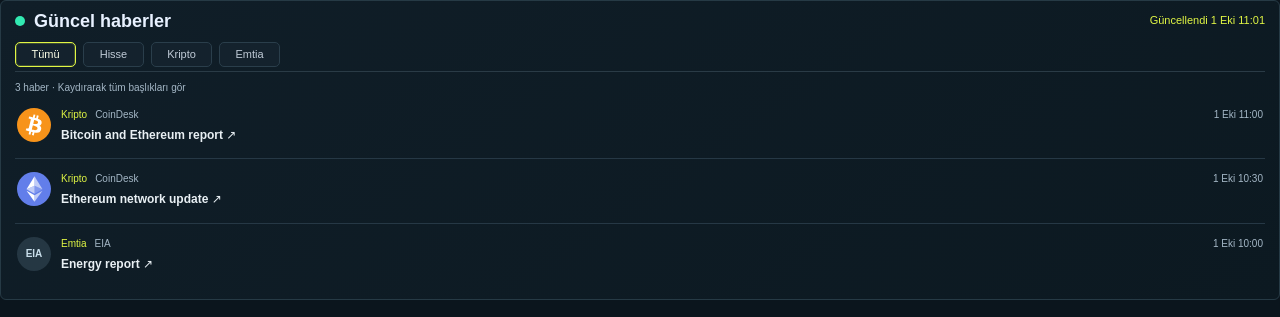
Scenario: NewsPanel › shows source links and filters actual items by category
Expected: the picture next to "Bitcoin and Ethereum report" is shown, [17,108,51,142]
Expected: the picture next to "Ethereum network update" is shown, [17,172,51,206]
Click the button "Emtia".
click(250, 54)  # box [219,42,280,67]
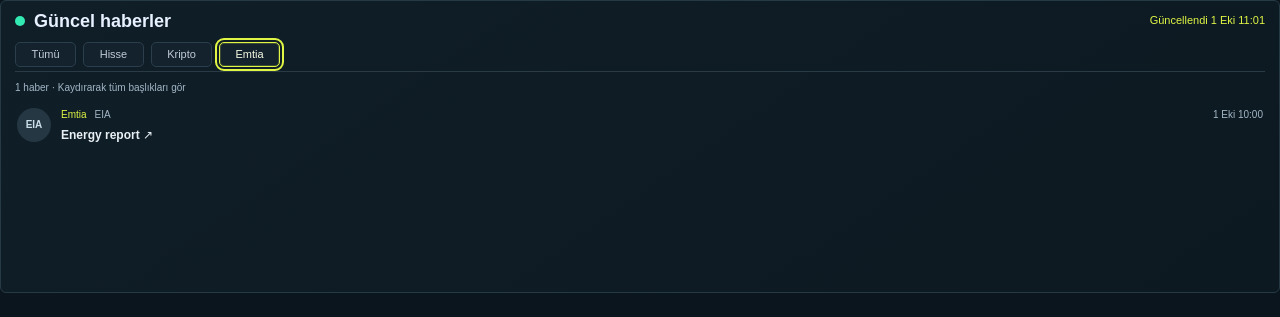
Expected: the link "Energy report ↗" is shown, [61,128,153,142]
Expected: the link "Bitcoin and Ethereum report" is gone
